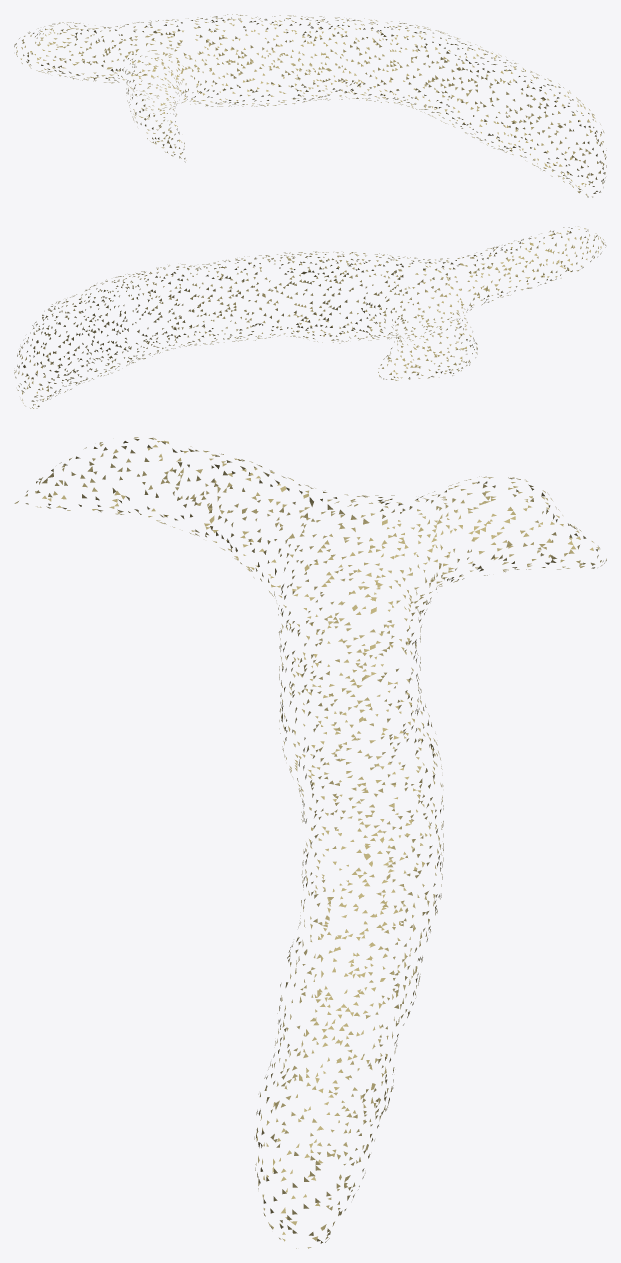
Rendered from morph_008.glb.
The picture shows the model from 3 angles, top to bottom: view 1: azimuth 30°, elevation 25°; view 2: azimuth 150°, elevation 25°; view 3: azimuth 270°, elevation 25°; orthographic projection. The views are drawn at different scales.
Bounding box in the file's own units: 121 × 58.32 × 73.68.
